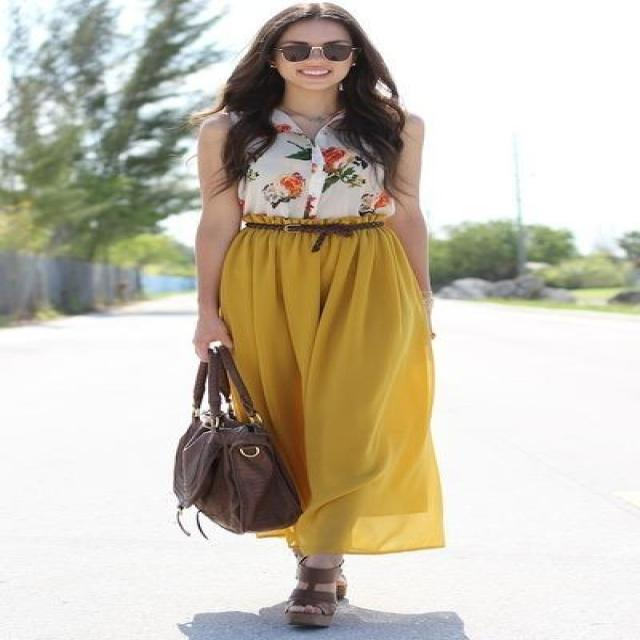bag: (173, 346, 309, 538)
shirt: (238, 106, 381, 216)
shoe: (288, 576, 334, 631)
skirt: (218, 201, 443, 554)
sunglass: (229, 382, 245, 421)
